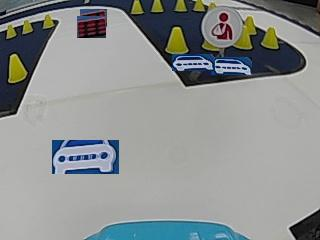cone: (165, 26, 188, 54), (8, 54, 26, 82), (234, 22, 252, 49), (262, 26, 279, 49), (130, 0, 143, 14), (42, 14, 54, 29), (174, 0, 187, 12), (5, 24, 16, 38), (151, 0, 163, 12), (22, 20, 33, 33), (193, 0, 204, 11)
patient: (204, 8, 238, 45)
